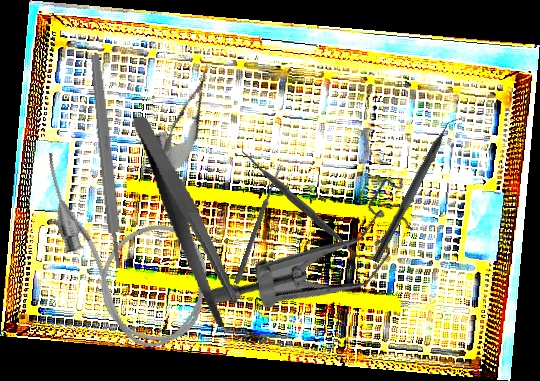Cannula: (35, 116, 230, 365)
Chopper: (371, 109, 466, 269)
Dressing Forceps: (131, 106, 242, 335)
Micro Scissor: (152, 59, 223, 183)
Scalpel Handle: (88, 53, 125, 270)
Spatula Surgical: (237, 140, 365, 269)
Speculum: (199, 124, 436, 377)
Surgical Spoon: (233, 163, 284, 285)
